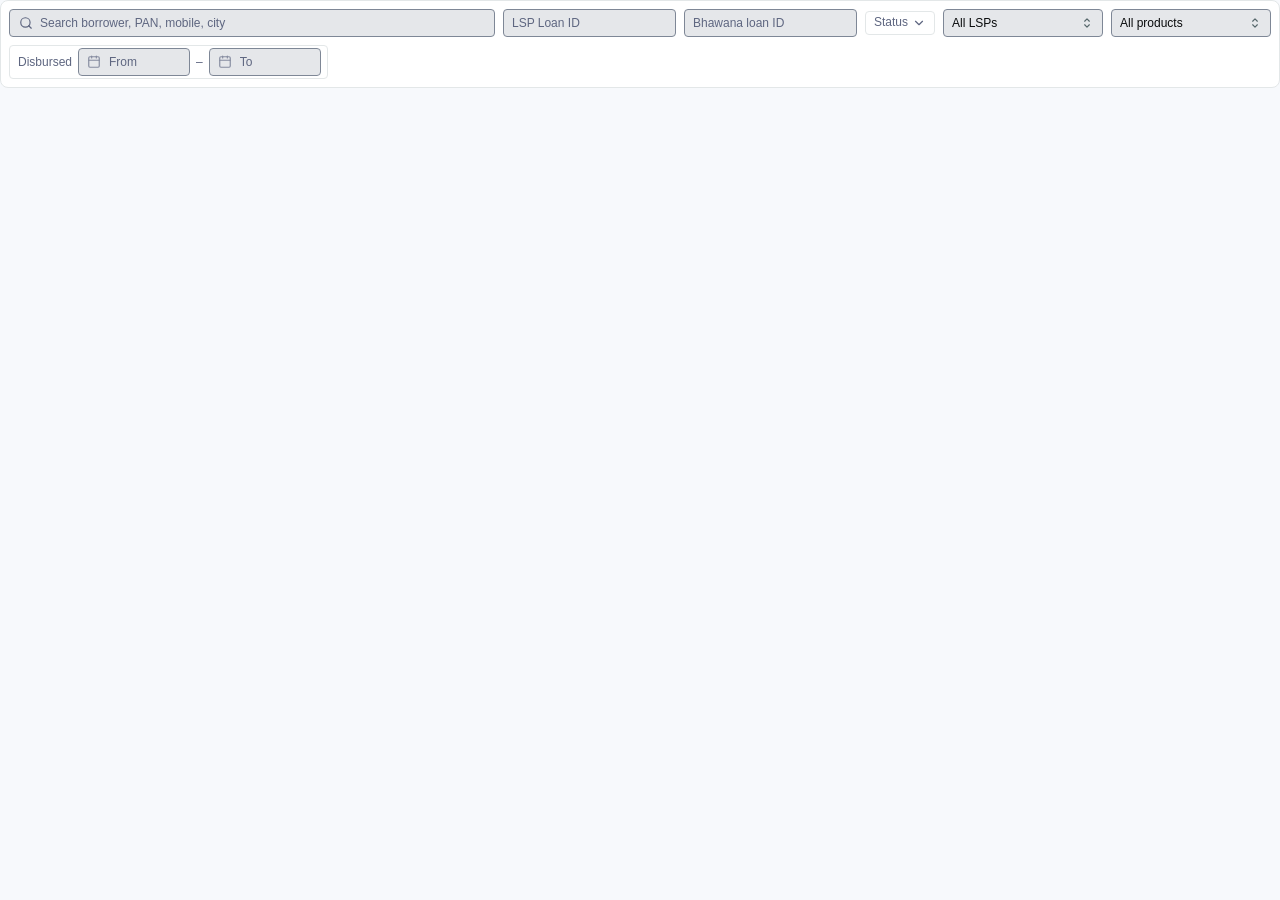
LoanApplicationsFilterBar › opens the status multi-select and exposes options
Click the button "Status" at (900, 23), box 865,11 -> 935,35
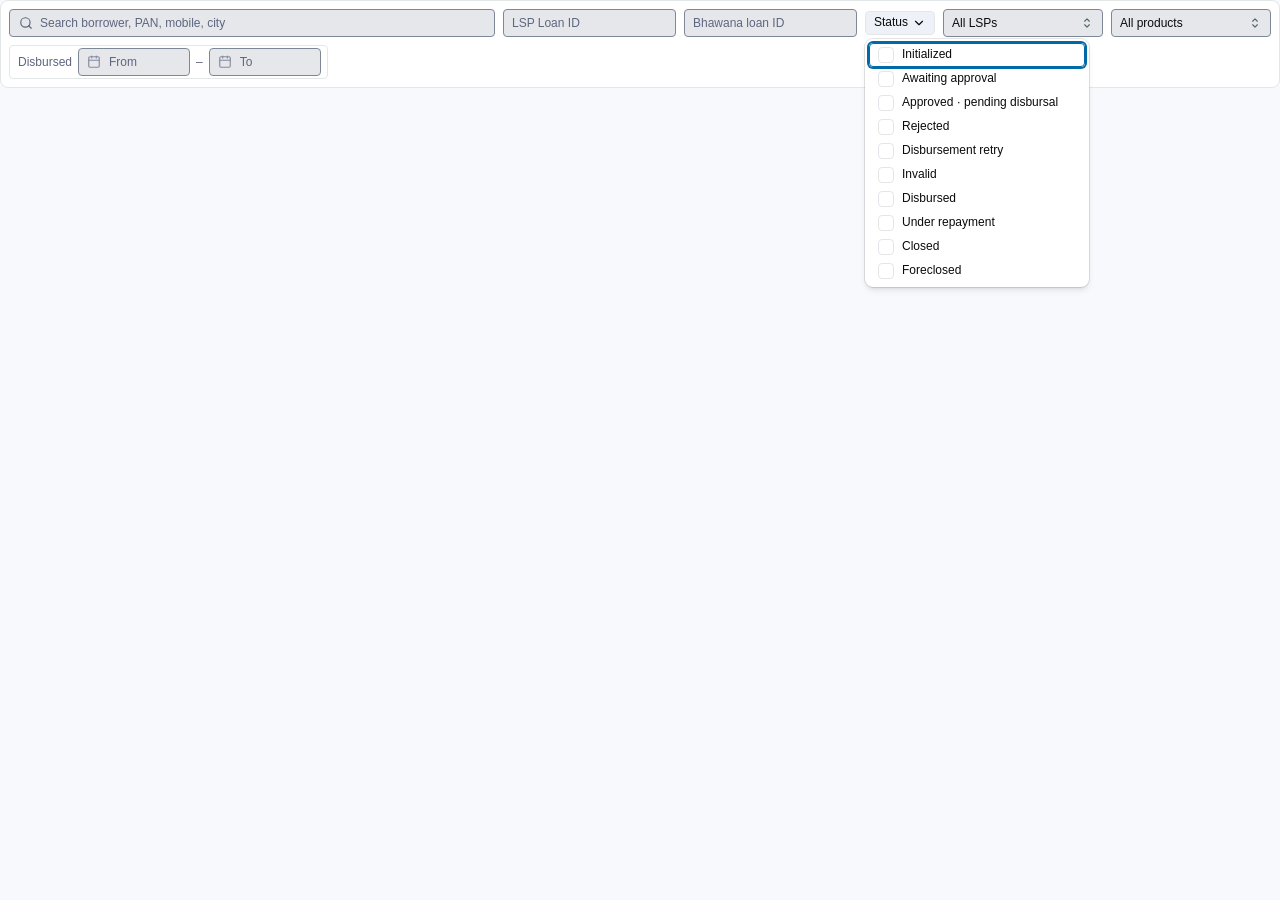
Check: the option "Initialized" is shown, box 869,43 -> 1085,67
